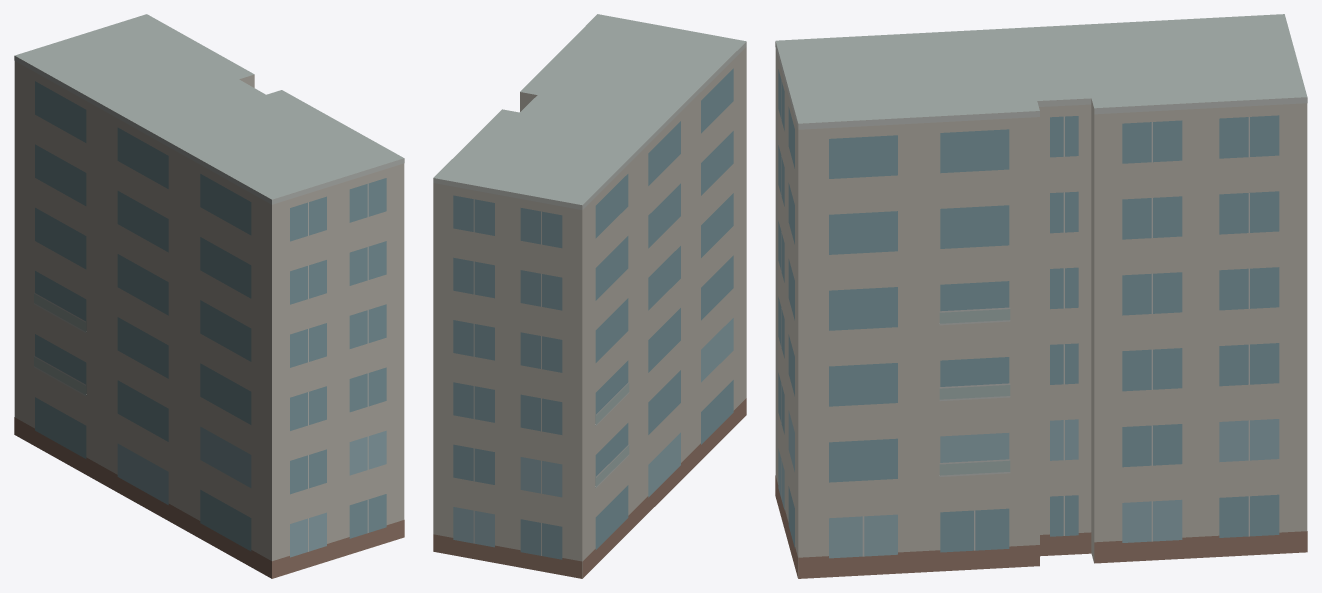
Rendered from survey-upis-32530992.glb.
The picture shows the model from 3 angles, left to right: view 1: azimuth 30°, elevation 25°; view 2: azimuth 150°, elevation 25°; view 3: azimuth 270°, elevation 25°; orthographic projection. The views are drawn at different scales.
Visible parts, largest first — view 1: survey-upis-32530992.tmp; view 2: survey-upis-32530992.tmp; view 3: survey-upis-32530992.tmp.
Part boxes in pixels (box(x1,y1,x2,y2)): survey-upis-32530992.tmp: box(14, 14, 404, 578); survey-upis-32530992.tmp: box(433, 14, 746, 578); survey-upis-32530992.tmp: box(775, 14, 1307, 578).
Bounding box in the file's own units: 9.42 × 18.2 × 19.29.
